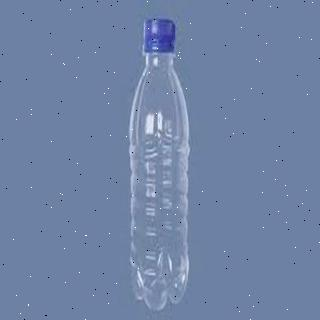Plastic-bottle: (129, 16, 191, 314)
